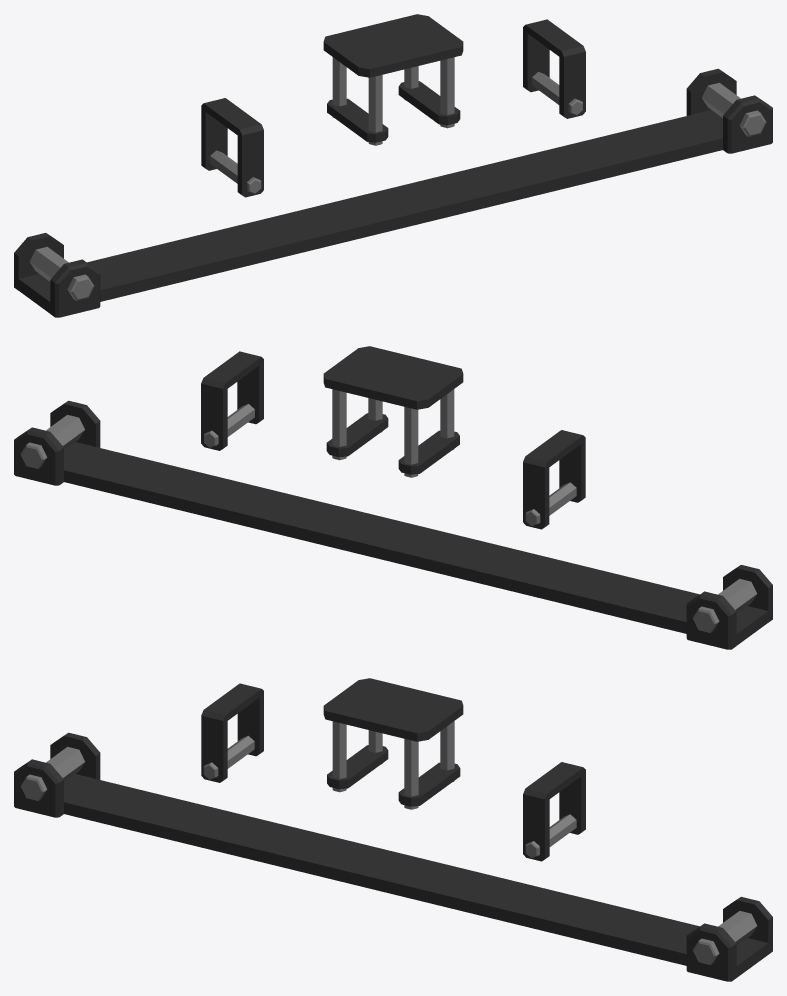
File: TanHuang_GangBan_2X9_off.FBX
3 renders of one model, top to bottom at view 1: azimuth 30°, elevation 25°; view 2: azimuth 150°, elevation 25°; view 3: azimuth 330°, elevation 25°, orthographic.
Visible parts, largest first — view 1: Box077; view 2: Box077; view 3: Box077.
Boxes of the visible parts, bbox=[...] form: Box077: bbox=[14, 14, 772, 317]; Box077: bbox=[14, 346, 772, 649]; Box077: bbox=[14, 678, 772, 981].
Bounding box in the file's own units: 9 × 2.07 × 1.11.
